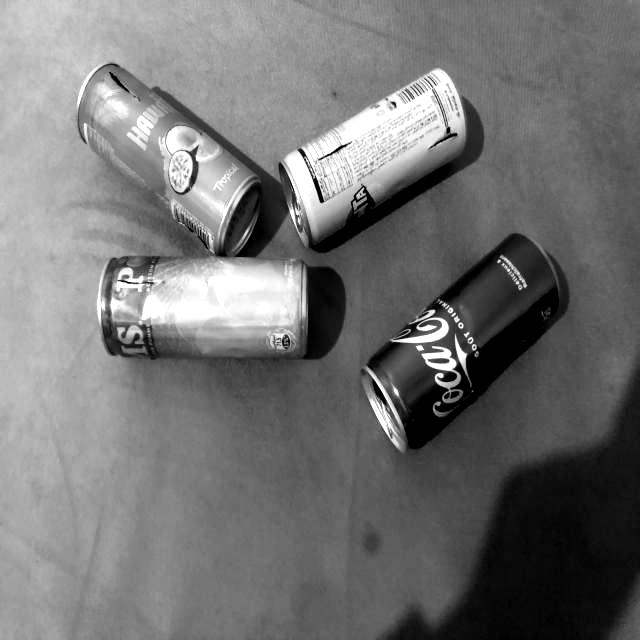cut: (102, 67, 145, 111), (308, 137, 362, 167), (411, 126, 463, 156), (107, 270, 165, 294)
metal: (364, 235, 563, 451), (78, 63, 261, 256), (279, 70, 466, 247), (98, 256, 310, 358)
